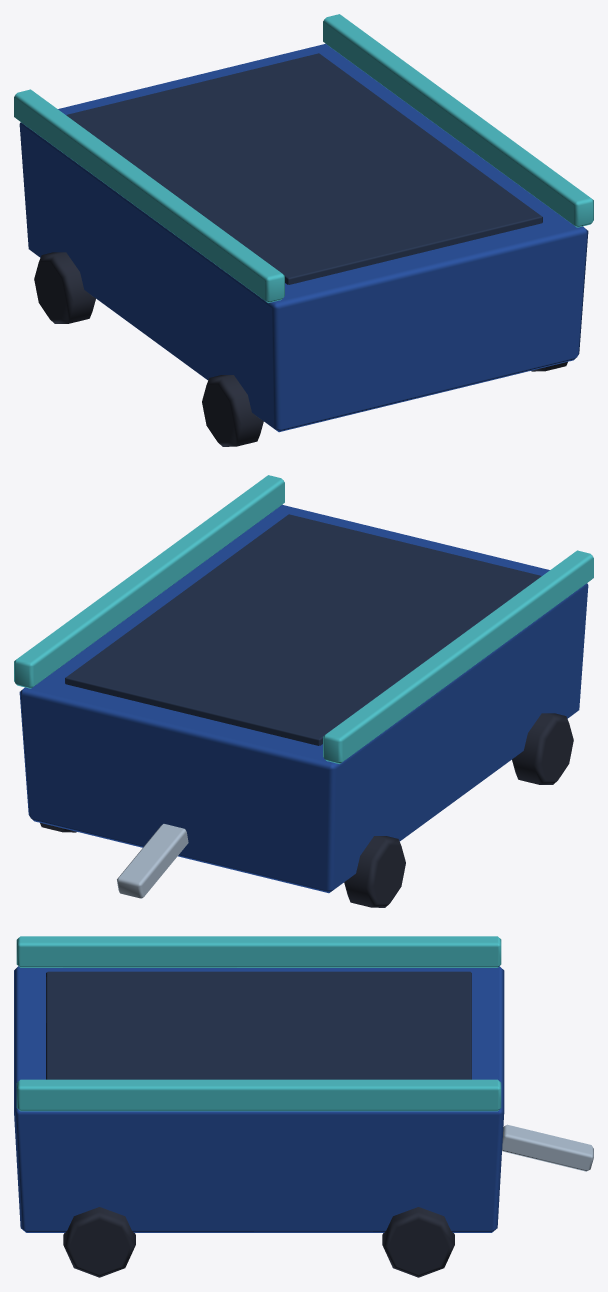
File: baggage_cart.glb
3 renders of one model, top to bottom at view 1: azimuth 30°, elevation 25°; view 2: azimuth 150°, elevation 25°; view 3: azimuth 270°, elevation 25°, orthographic. The views are drawn at different scales.
Visible parts, largest first — view 1: baggage_cart; view 2: baggage_cart; view 3: baggage_cart.
Part boxes in pixels (<box>): baggage_cart: <box>14,14,593,446</box>; baggage_cart: <box>14,475,593,907</box>; baggage_cart: <box>14,936,593,1277</box>.
Size of the model in its own units: 1.85 by 1.04 by 2.87.
